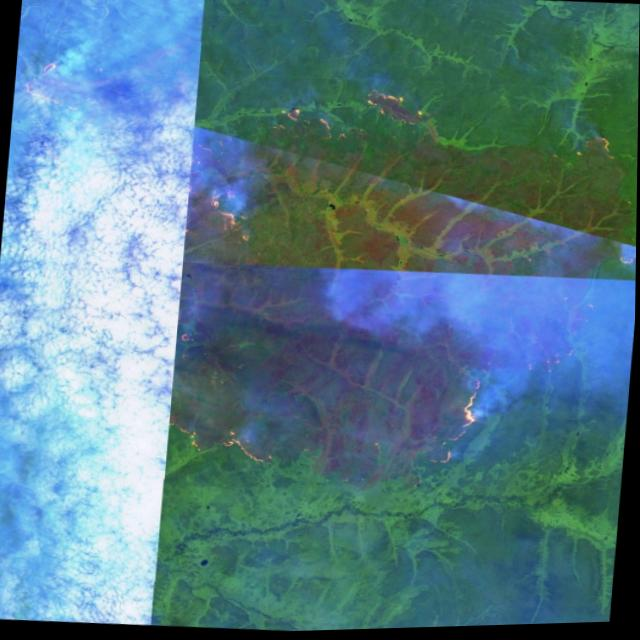fire: (409, 351, 507, 483), (154, 402, 305, 478), (286, 89, 442, 151), (177, 178, 271, 259), (554, 130, 627, 183)
